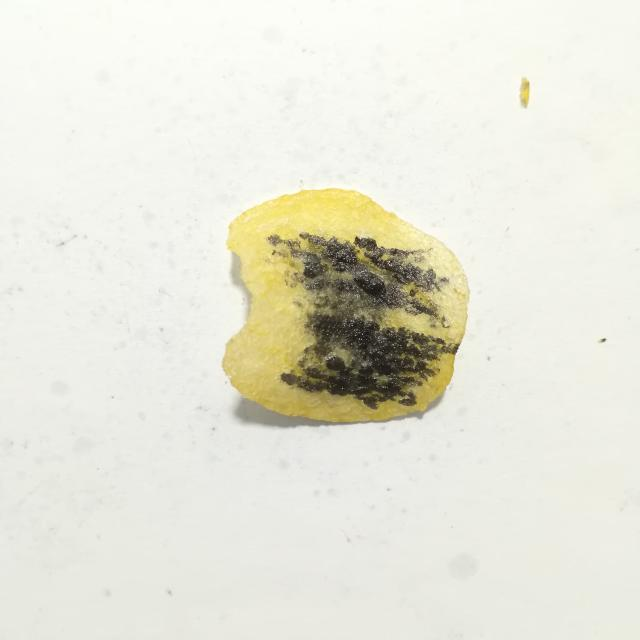chip: (223, 189, 469, 422)
damaged: (268, 232, 459, 409)
